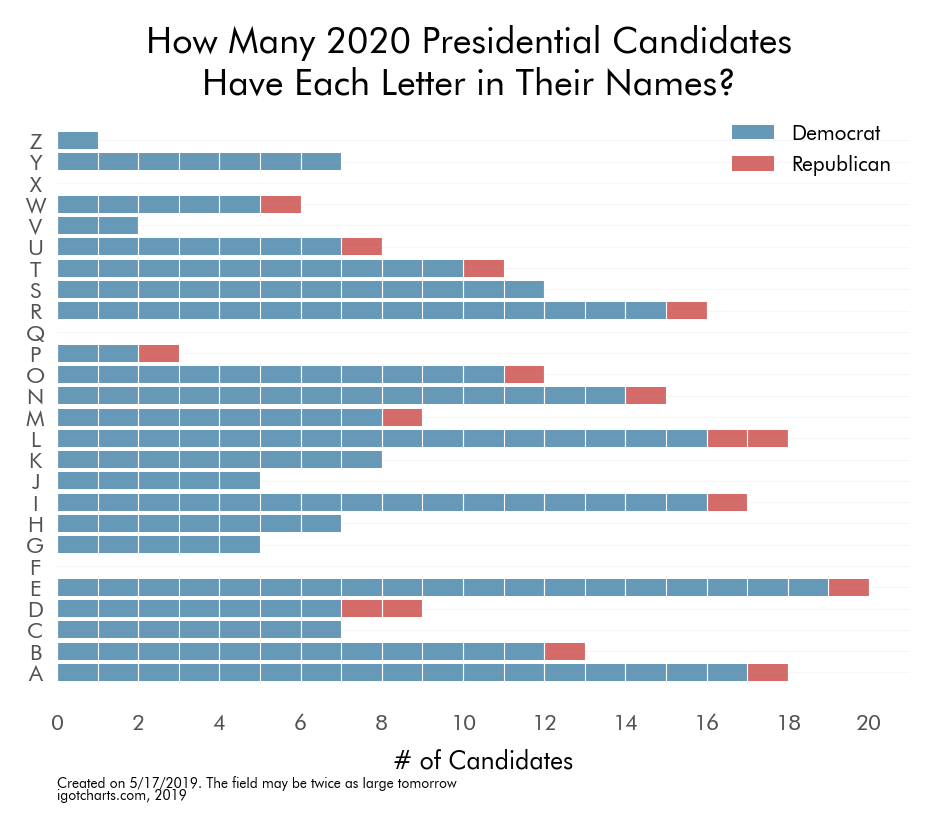

Layout of this report page (visuals, bound fields, positions):
{"tool":"tableau","page":{"name":"Dashboard 1","canvas":[1000,700],"ordinal":0},"visuals":[{"type":"worksheet","title":"Sheet 1","mark":"Shape","rows":["Function"],"cols":["Chart Type"],"box":[7,10,934,584]},{"type":"worksheet","title":"column totals","mark":"Automatic","cols":["Chart Type"],"box":[166,608,777,31]}]}

Visuals, with their boxes on the page's 1000x700 design canvas (x1, y1, x2, y2). These are canvas units, not pixel positions in the 934x827 screenshot, which may show the page scaled, cropped or inside an application window:
"Sheet 1" worksheet (Shape marks): detection(7, 10, 941, 594)
"column totals" worksheet: detection(166, 608, 943, 639)
